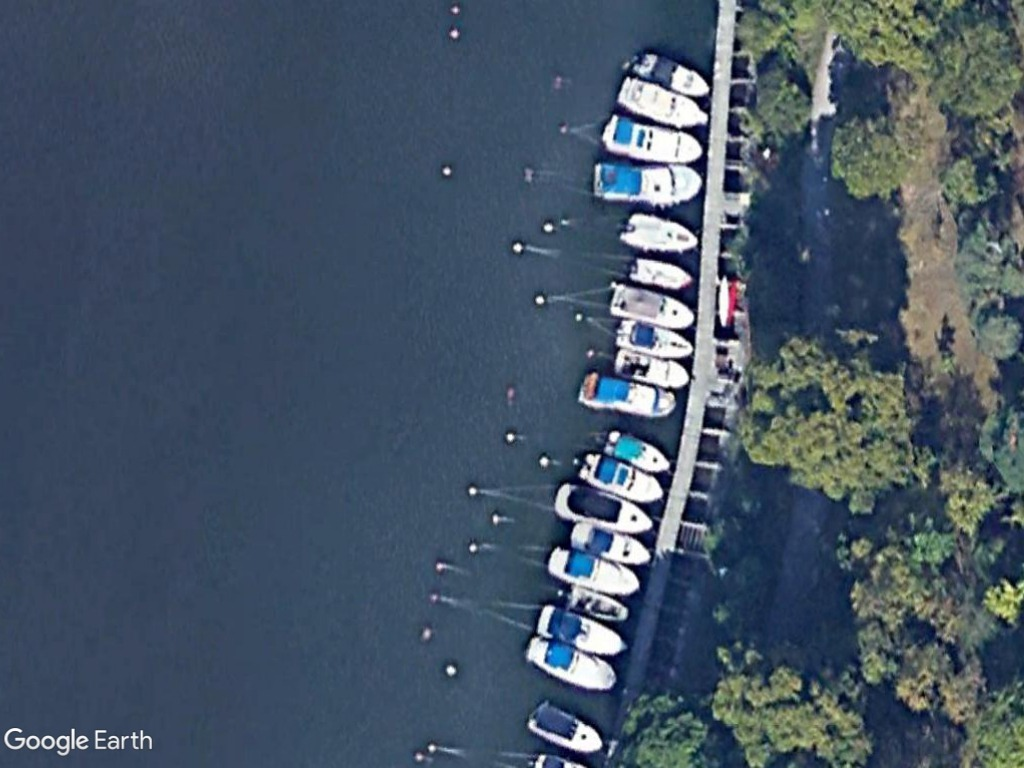boat: (520, 627, 625, 694), (586, 149, 709, 206), (549, 477, 659, 540), (592, 110, 708, 167), (609, 70, 714, 131), (570, 365, 684, 421), (573, 444, 671, 508), (517, 696, 612, 759), (620, 44, 715, 106), (539, 543, 648, 597), (530, 597, 633, 653), (596, 276, 702, 330), (566, 514, 656, 565), (612, 209, 707, 256), (610, 313, 701, 362), (596, 424, 678, 478), (622, 249, 704, 296), (608, 343, 697, 386)
